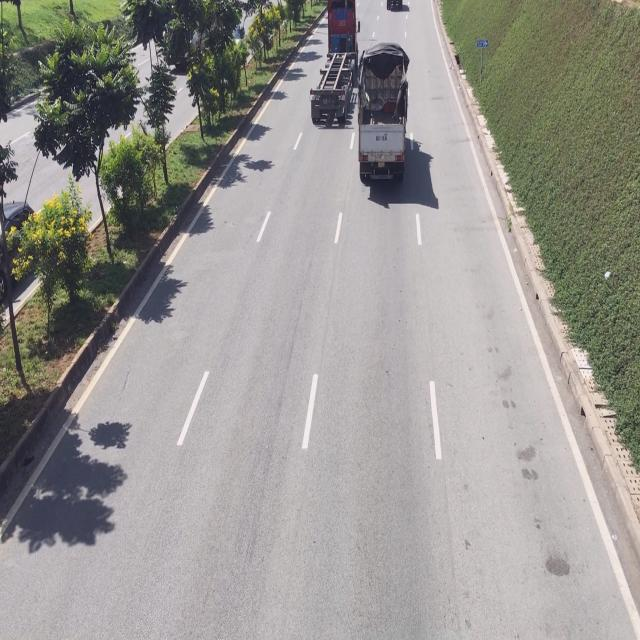truck: (354, 44, 408, 184), (311, 0, 360, 127)
